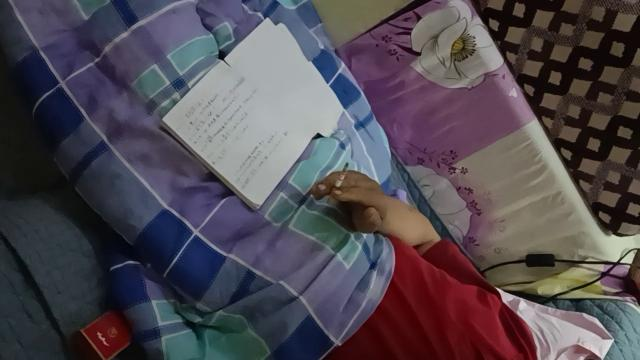Cigarette: (327, 162, 349, 206)
